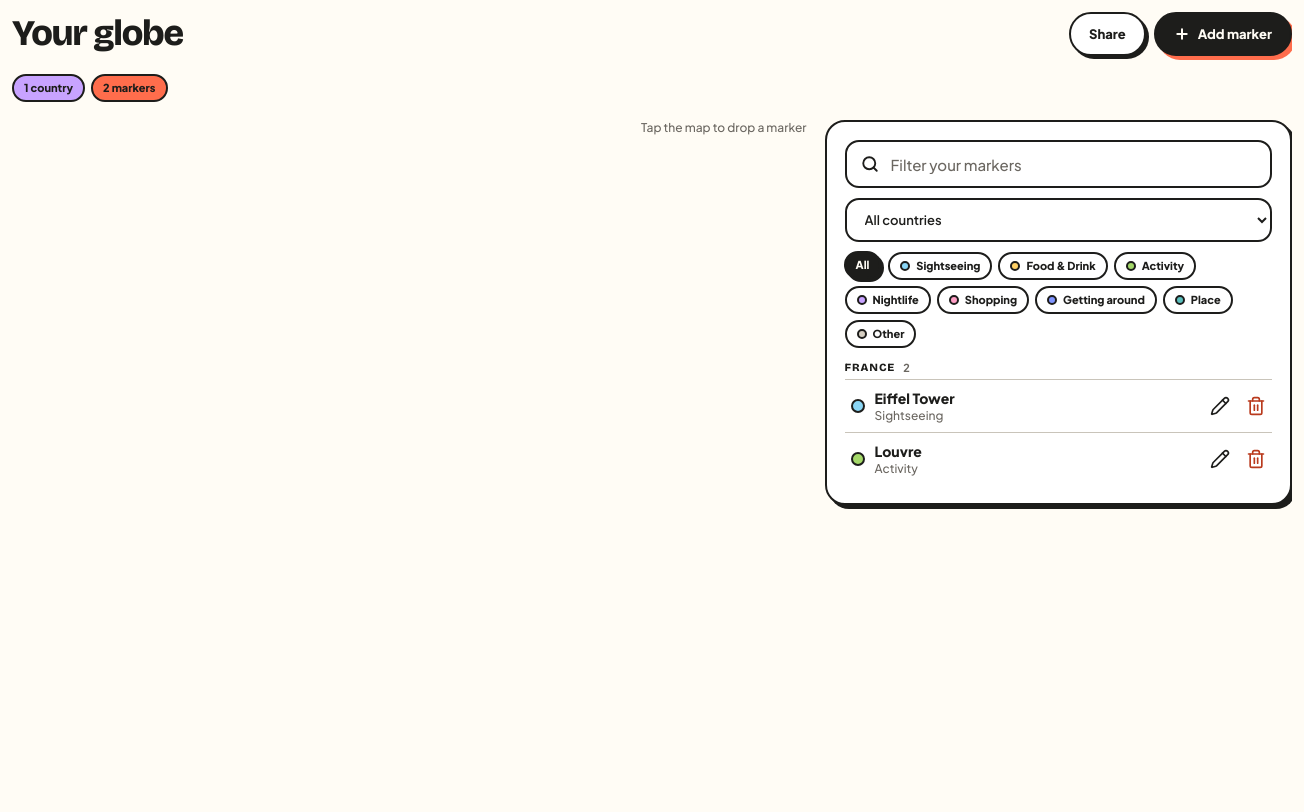
Test: GlobeView — filter box can't be mistaken for adding a place (spec 2026-10-05 §H) › a query plus an active category filter says 'with these filters', keeping the Add button
This screenshot has width=1304, height=812.
Type "louvre" into the field labelled "Filter your markers" at (1058, 164), box [845, 140, 1272, 188]
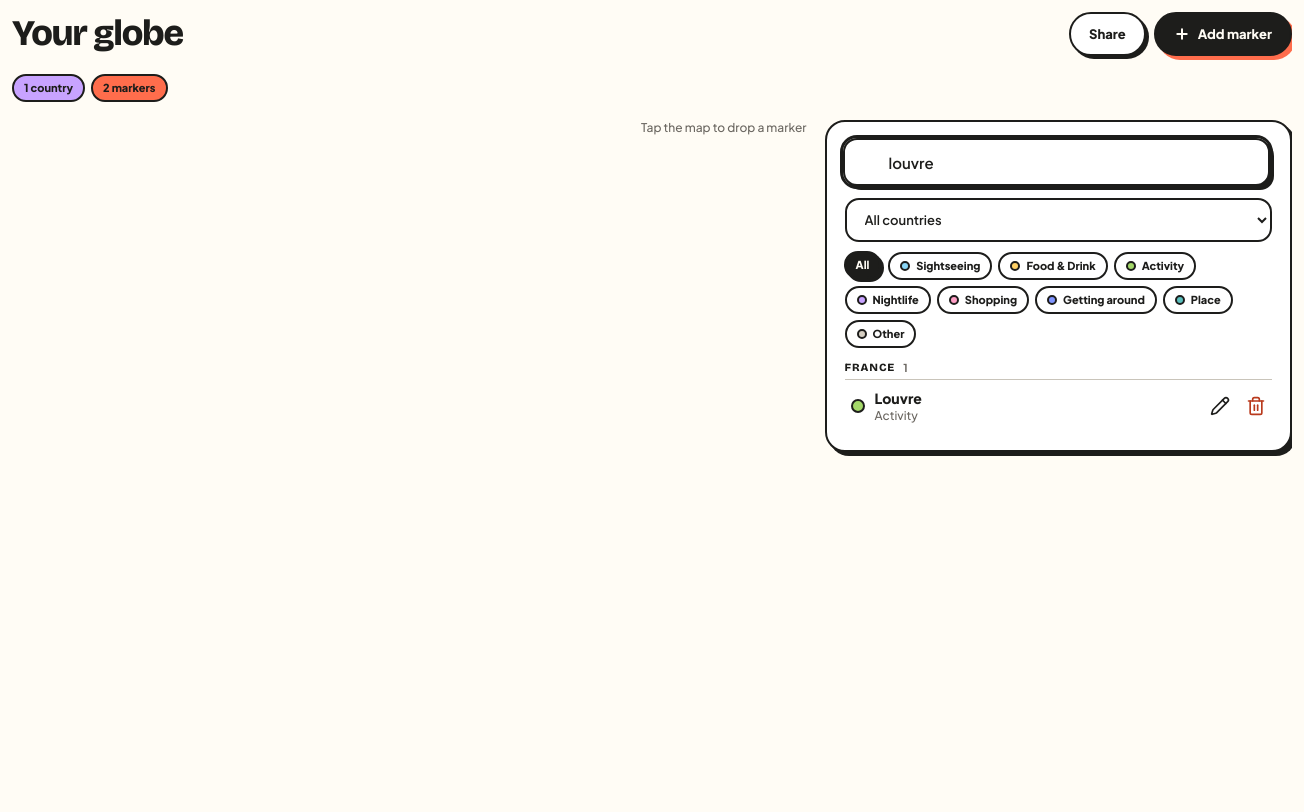
Note: Louvre matches the query alone, but not the "Food & Drink" category.
Click the button "Food & Drink" at (1053, 266), box [998, 252, 1108, 280]
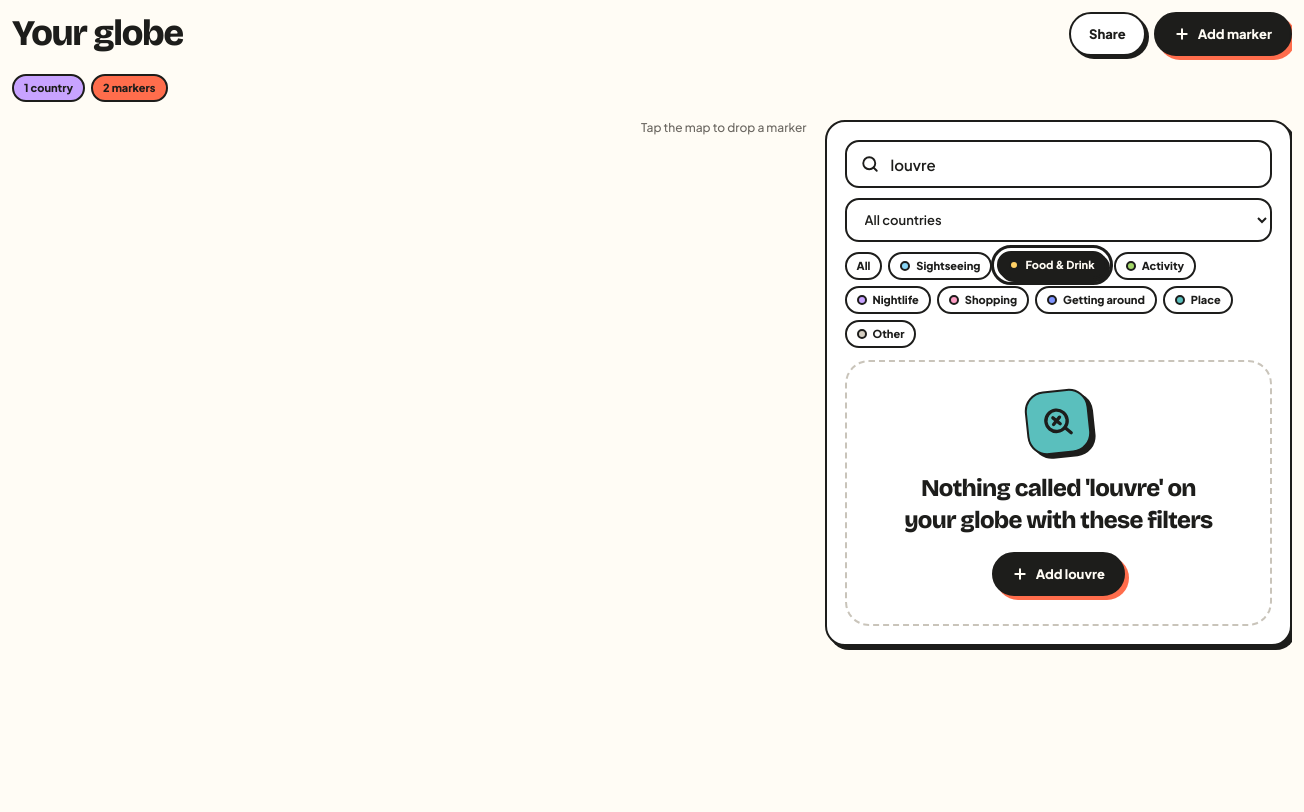
Check: the heading "Nothing called 'louvre' on your globe with these filters" is shown, box [904, 474, 1212, 534]
Check: the button "Add louvre" is shown, box [992, 552, 1125, 596]
